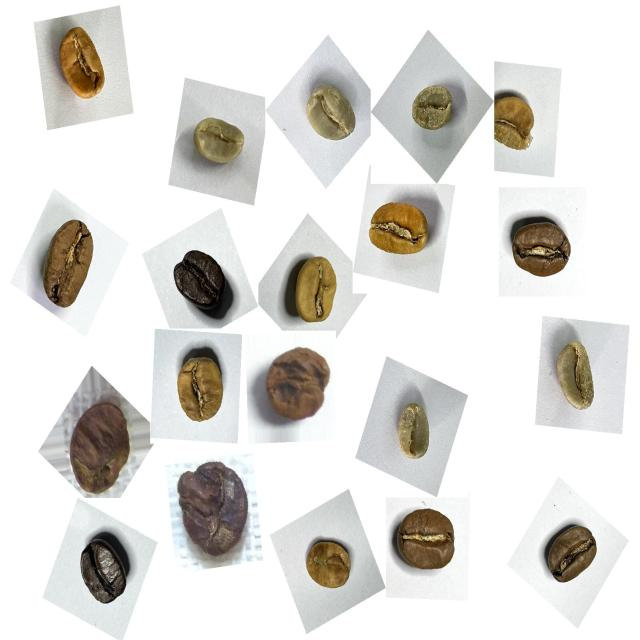bad: (170, 456, 259, 569), (59, 389, 143, 503), (256, 335, 340, 433)
dark: (66, 523, 138, 617), (166, 239, 240, 326)
green: (543, 329, 610, 425), (293, 74, 364, 158), (184, 106, 255, 180), (386, 392, 446, 472), (400, 75, 463, 145)
light: (166, 336, 237, 434), (47, 18, 117, 112), (363, 189, 441, 273), (278, 246, 346, 333), (486, 78, 548, 164), (297, 530, 362, 604)
medium: (29, 208, 109, 322), (503, 206, 583, 293), (388, 501, 467, 586), (538, 514, 608, 596)
